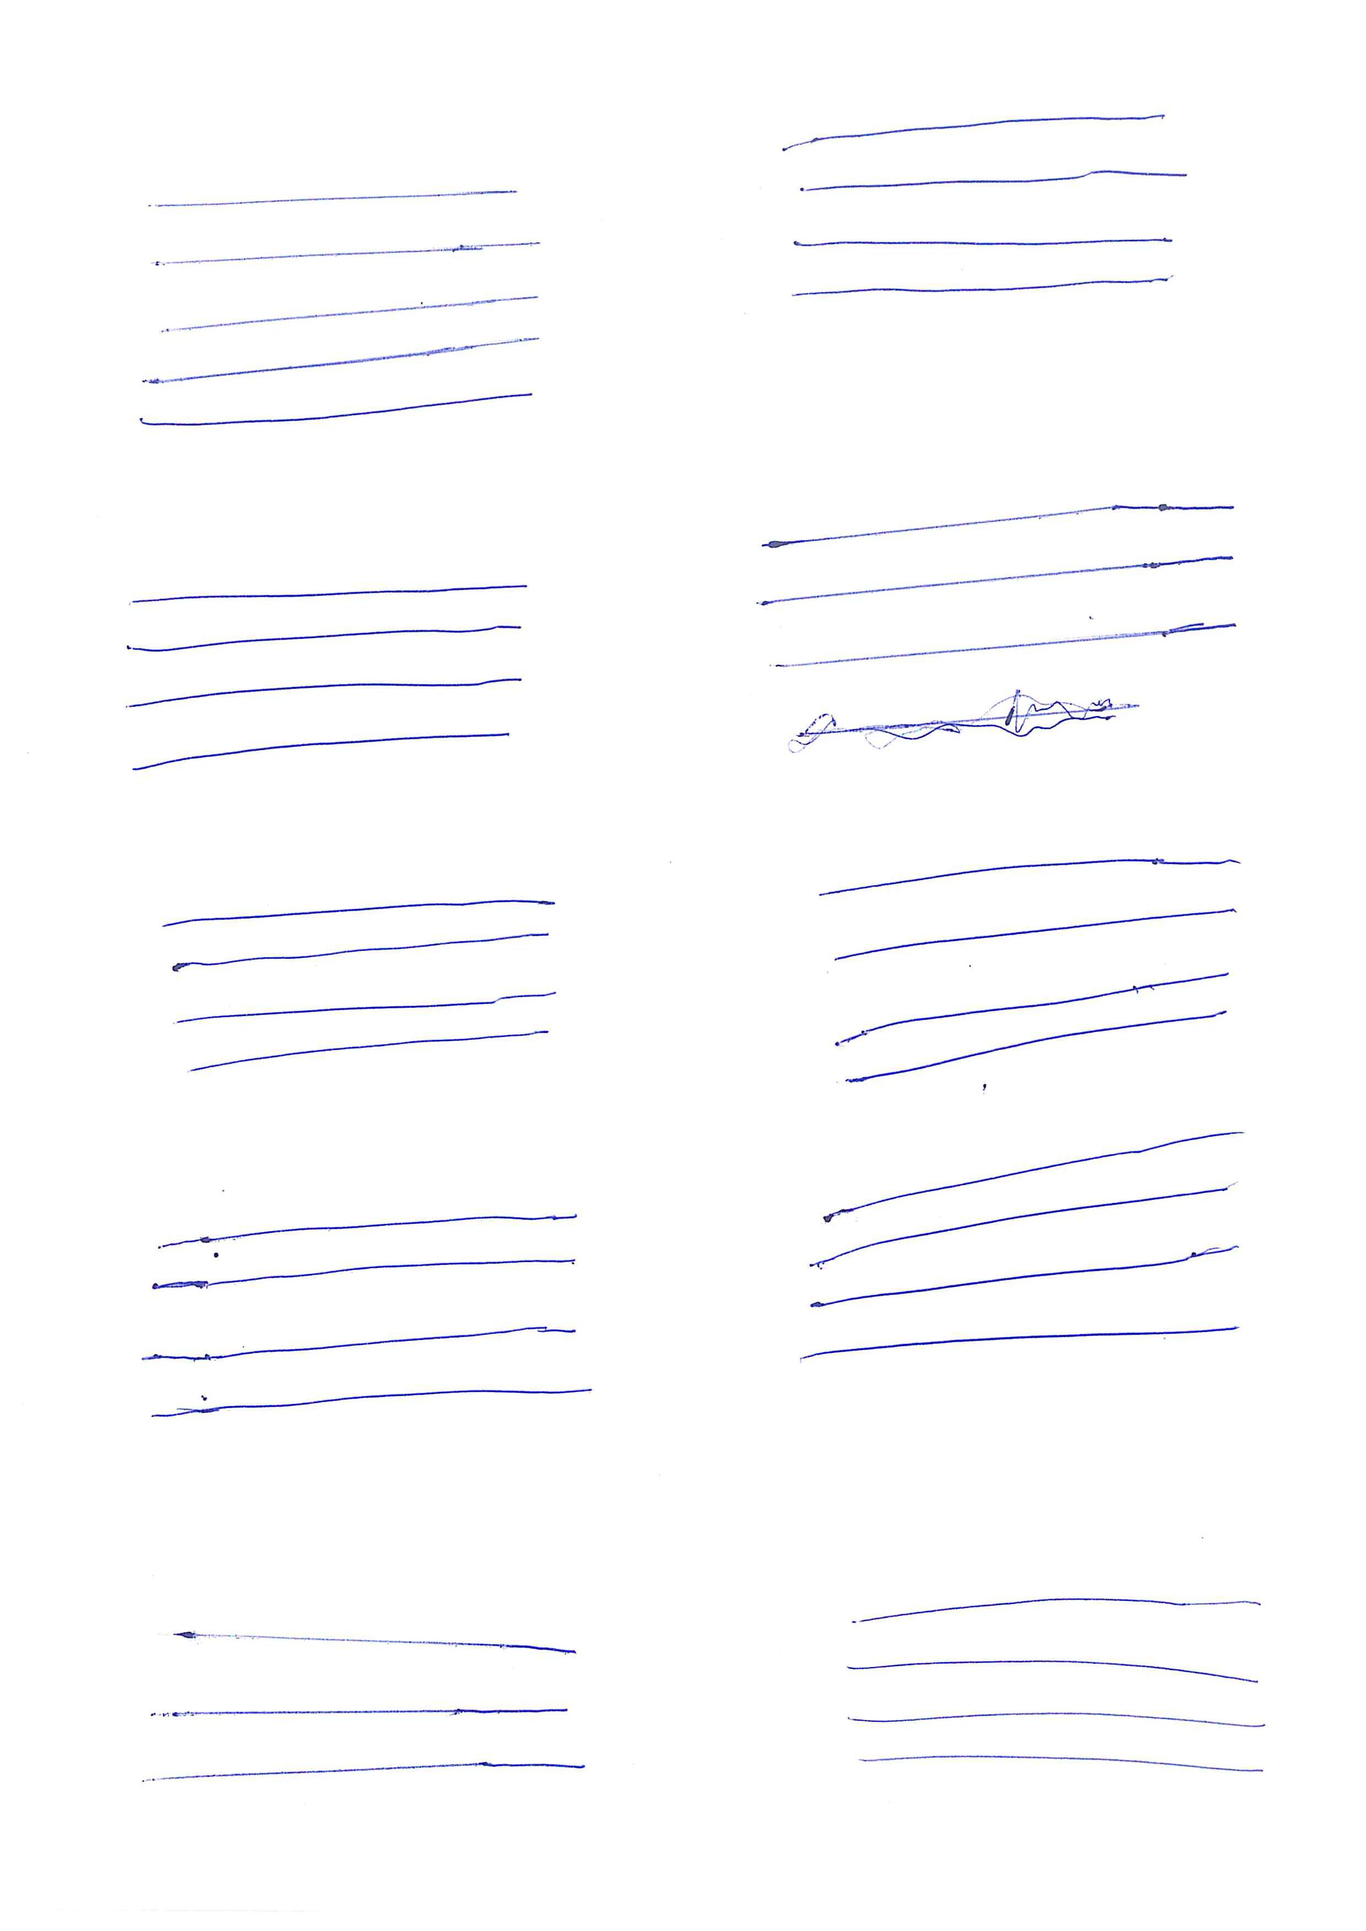Paragraph: (795, 1124, 1245, 1371), (813, 847, 1248, 1097), (130, 182, 553, 438), (133, 1204, 594, 1433), (748, 500, 1242, 679), (124, 571, 534, 782), (835, 1588, 1286, 1779), (784, 103, 1189, 306), (151, 889, 565, 1082), (124, 1621, 585, 1793)
